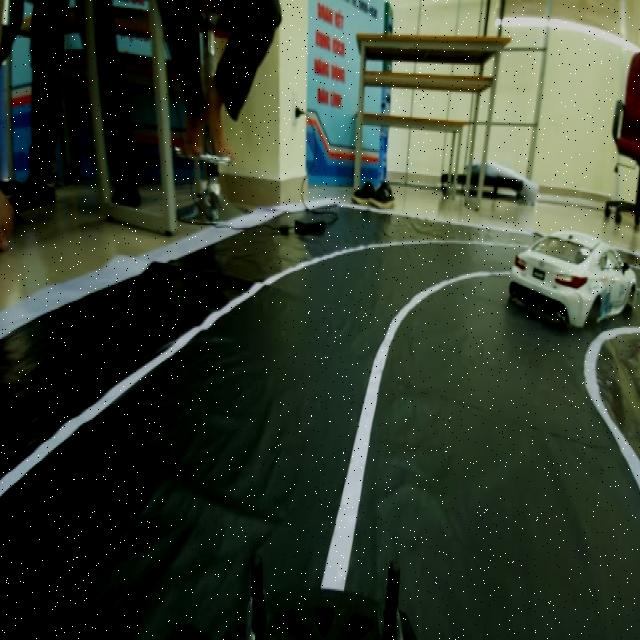car: (503, 213, 638, 337)
